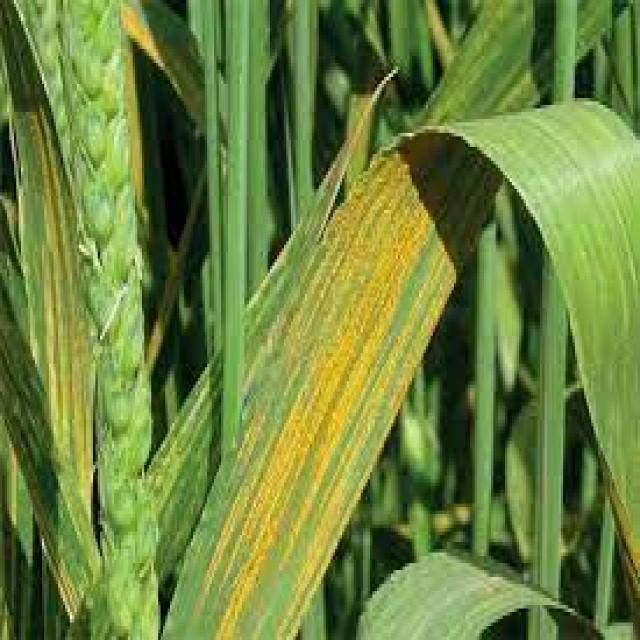leaf rust: (200, 157, 468, 626)
